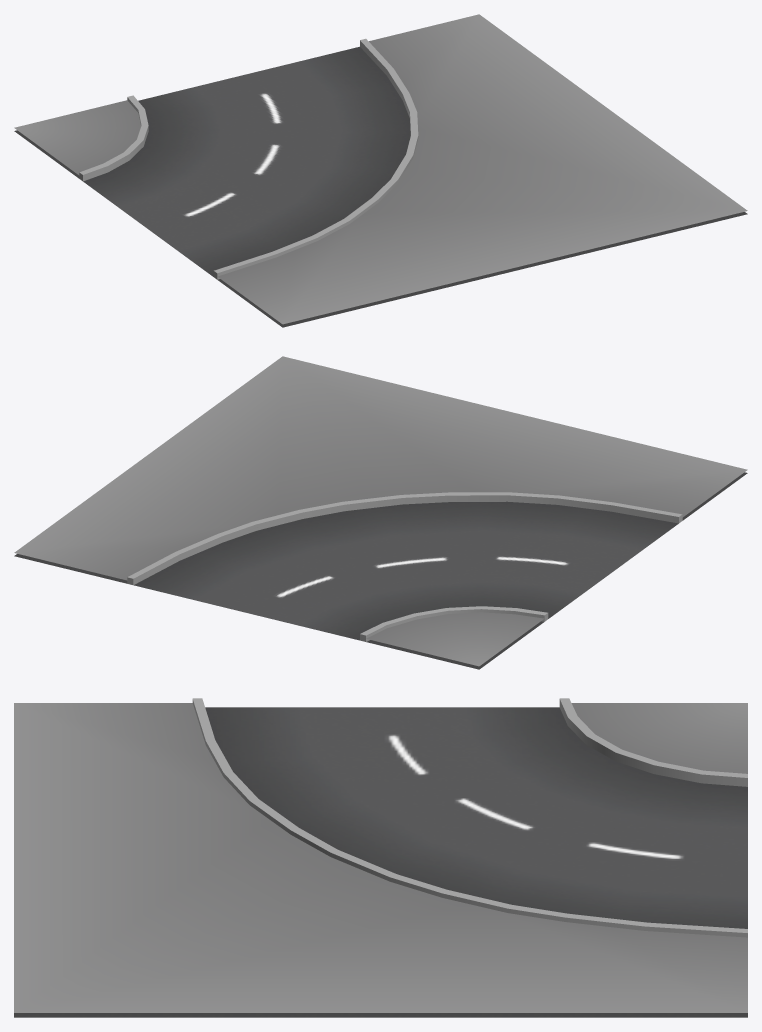
File: road_013.glb
3 renders of one model, top to bottom at view 1: azimuth 30°, elevation 25°; view 2: azimuth 150°, elevation 25°; view 3: azimuth 270°, elevation 25°, orthographic. The views are drawn at different scales.
Visible parts, largest first — view 1: road_013; view 2: road_013; view 3: road_013.
Boxes of the visible parts, left/top/right/bottom form: road_013: left=14, top=14, right=747, bottom=327; road_013: left=14, top=356, right=747, bottom=669; road_013: left=14, top=698, right=747, bottom=1017.
Bounding box in the file's own units: 15 × 0.2 × 15.
Materials: 2 (2 with a texture image).
